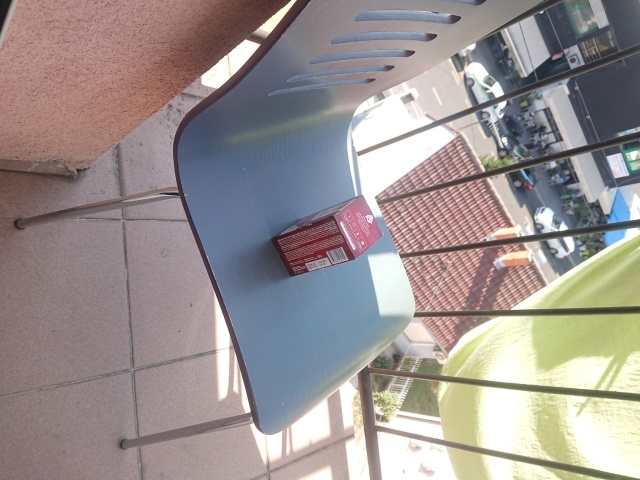Franck Apple Cinnamon Tea 60g: (269, 193, 385, 277)
